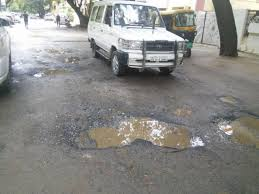pothole: (68, 102, 209, 172), (217, 106, 259, 151), (24, 59, 76, 82)
